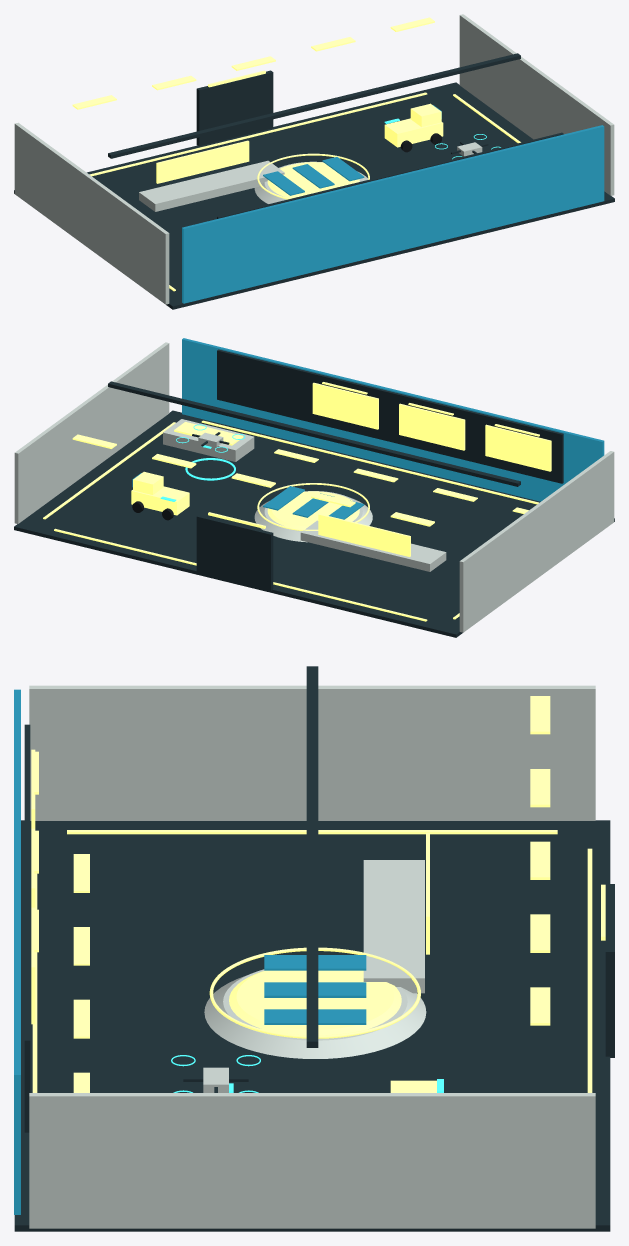
Rendered from outpost-dispatch.glb.
3 renders of one model, top to bottom at view 1: azimuth 30°, elevation 25°; view 2: azimuth 150°, elevation 25°; view 3: azimuth 270°, elevation 25°, orthographic. The views are drawn at different scales.
Parts seen in each view (by area): view 1: rj-outpost-dispatch-interior-rear-glass-wall, rj-outpost-dispatch-interior-raised-interior-floor, rj-outpost-dispatch-interior-left-wall-frame, rj-outpost-dispatch-interior-right-wall-frame, rj-outpost-dispatch-interior-exit-door-frame, rj-outpost-dispatch-interior-dispatch-counter, rj-outpost-dispatch-interior-ceiling-spine, rj-outpost-dispatch-interior-dispatch-status-map, rj-outpost-dispatch-interior-hologram-map-table, rj-outpost-dispatch-interior-mini-rover-bay-body, rj-outpost-dispatch-interior-front-wayfinding-rail, rj-outpost-dispatch-interior-screen-wall-backplane (+6 smaller); view 2: rj-outpost-dispatch-interior-raised-interior-floor, rj-outpost-dispatch-interior-left-wall-frame, rj-outpost-dispatch-interior-screen-wall-backplane, rj-outpost-dispatch-interior-rear-glass-wall, rj-outpost-dispatch-interior-right-wall-frame, rj-outpost-dispatch-interior-exit-door-frame, rj-outpost-dispatch-interior-ceiling-spine, rj-outpost-dispatch-interior-main-display-3, rj-outpost-dispatch-interior-main-display-1, rj-outpost-dispatch-interior-main-display-2, rj-outpost-dispatch-interior-dispatch-status-map, rj-outpost-dispatch-interior-dispatch-counter (+11 smaller); view 3: rj-outpost-dispatch-interior-raised-interior-floor, rj-outpost-dispatch-interior-right-wall-frame, rj-outpost-dispatch-interior-left-wall-frame, rj-outpost-dispatch-interior-dispatch-counter, rj-outpost-dispatch-interior-hologram-map-table, rj-outpost-dispatch-interior-decision-table-base, rj-outpost-dispatch-interior-ceiling-spine, rj-outpost-dispatch-interior-rear-glass-wall, rj-outpost-dispatch-interior-screen-wall-backplane, rj-outpost-dispatch-interior-left-wayfinding-rail, rj-outpost-dispatch-interior-hologram-data-ring, rj-outpost-dispatch-interior-exit-door-frame (+9 smaller).
Boxes of the visible parts, x1,y1,x2,y2 form: rj-outpost-dispatch-interior-rear-glass-wall: (182, 125, 604, 303); rj-outpost-dispatch-interior-raised-interior-floor: (14, 82, 614, 309); rj-outpost-dispatch-interior-left-wall-frame: (14, 122, 169, 304); rj-outpost-dispatch-interior-right-wall-frame: (459, 14, 614, 195); rj-outpost-dispatch-interior-exit-door-frame: (196, 70, 273, 146); rj-outpost-dispatch-interior-dispatch-counter: (139, 160, 284, 211); rj-outpost-dispatch-interior-ceiling-spine: (108, 53, 520, 158); rj-outpost-dispatch-interior-dispatch-status-map: (156, 140, 249, 183); rj-outpost-dispatch-interior-hologram-map-table: (267, 162, 359, 198); rj-outpost-dispatch-interior-mini-rover-bay-body: (384, 118, 443, 147); rj-outpost-dispatch-interior-front-wayfinding-rail: (89, 92, 427, 176); rj-outpost-dispatch-interior-screen-wall-backplane: (217, 132, 563, 218); rj-outpost-dispatch-interior-raised-interior-floor: (14, 410, 614, 637); rj-outpost-dispatch-interior-left-wall-frame: (459, 451, 614, 632); rj-outpost-dispatch-interior-screen-wall-backplane: (217, 349, 563, 483); rj-outpost-dispatch-interior-rear-glass-wall: (182, 338, 604, 501); rj-outpost-dispatch-interior-right-wall-frame: (14, 342, 169, 523); rj-outpost-dispatch-interior-exit-door-frame: (196, 515, 273, 590); rj-outpost-dispatch-interior-ceiling-spine: (108, 381, 520, 486); rj-outpost-dispatch-interior-main-display-3: (312, 382, 378, 429); rj-outpost-dispatch-interior-main-display-1: (485, 424, 551, 471); rj-outpost-dispatch-interior-main-display-2: (399, 403, 465, 450); rj-outpost-dispatch-interior-dispatch-status-map: (318, 513, 410, 556); rj-outpost-dispatch-interior-dispatch-counter: (300, 520, 446, 571); rj-outpost-dispatch-interior-raised-interior-floor: (14, 820, 610, 1231); rj-outpost-dispatch-interior-right-wall-frame: (29, 1093, 595, 1228); rj-outpost-dispatch-interior-left-wall-frame: (29, 685, 595, 820); rj-outpost-dispatch-interior-dispatch-counter: (363, 860, 424, 993); rj-outpost-dispatch-interior-hologram-map-table: (229, 970, 401, 1035); rj-outpost-dispatch-interior-decision-table-base: (204, 969, 426, 1058); rj-outpost-dispatch-interior-ceiling-spine: (306, 666, 318, 1047); rj-outpost-dispatch-interior-rear-glass-wall: (14, 689, 20, 1214); rj-outpost-dispatch-interior-screen-wall-backplane: (24, 724, 30, 1132); rj-outpost-dispatch-interior-left-wayfinding-rail: (67, 830, 557, 834); rj-outpost-dispatch-interior-hologram-data-ring: (209, 947, 420, 1038); rj-outpost-dispatch-interior-exit-door-frame: (605, 884, 614, 1057).
Size of the model in its own units: 16.64 by 3.31 by 10.29.
